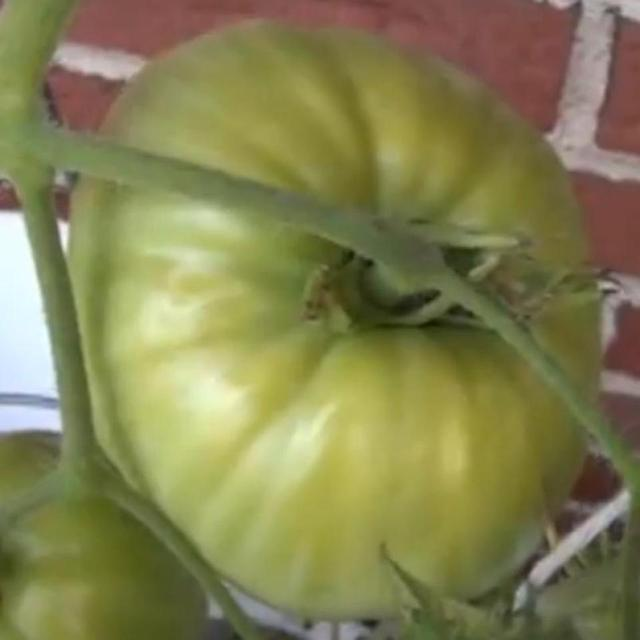Healthy Fruit: (63, 16, 395, 387)
